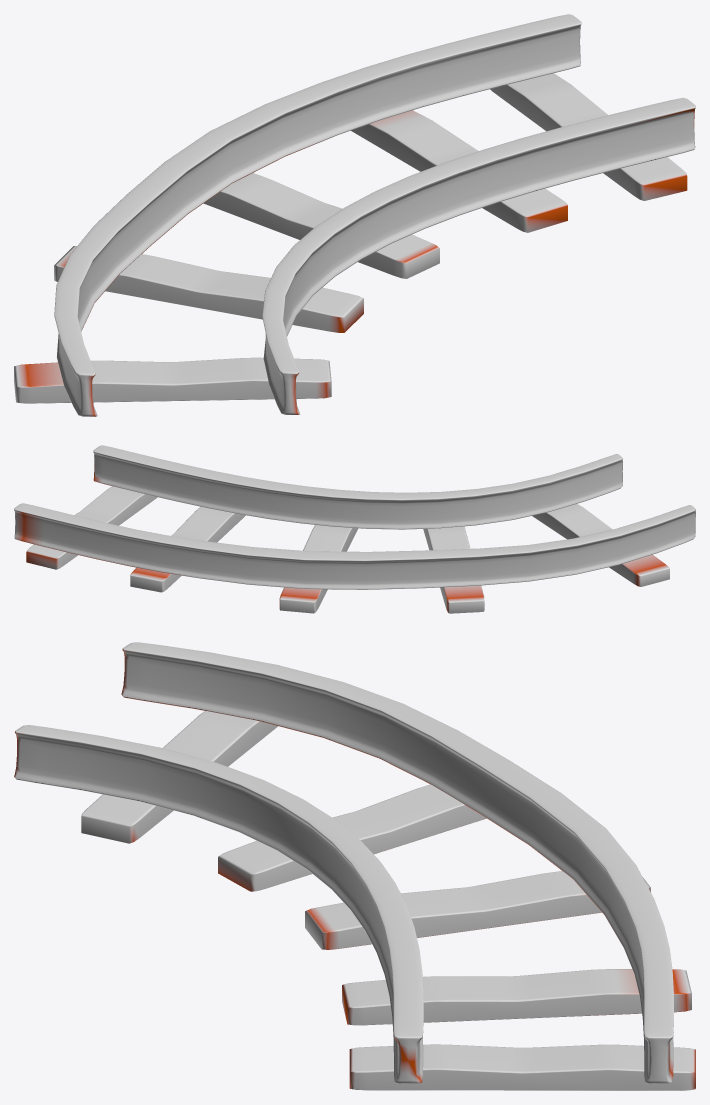
Rendered from tory_krzywe_LP_Blender_2.fbx.
The picture shows the model from 3 angles, top to bottom: view 1: azimuth 30°, elevation 25°; view 2: azimuth 150°, elevation 25°; view 3: azimuth 270°, elevation 25°; orthographic projection. The views are drawn at different scales.
Parts seen in each view (by area): view 1: Cube_060_SeamsColor; view 2: Cube_060_SeamsColor; view 3: Cube_060_SeamsColor.
Part boxes in pixels (left/top/right/bottom): Cube_060_SeamsColor: left=14, top=14, right=695, bottom=416; Cube_060_SeamsColor: left=14, top=445, right=695, bottom=613; Cube_060_SeamsColor: left=14, top=642, right=695, bottom=1090.
Size of the model in its own units: 10825 by 877 by 7763.
